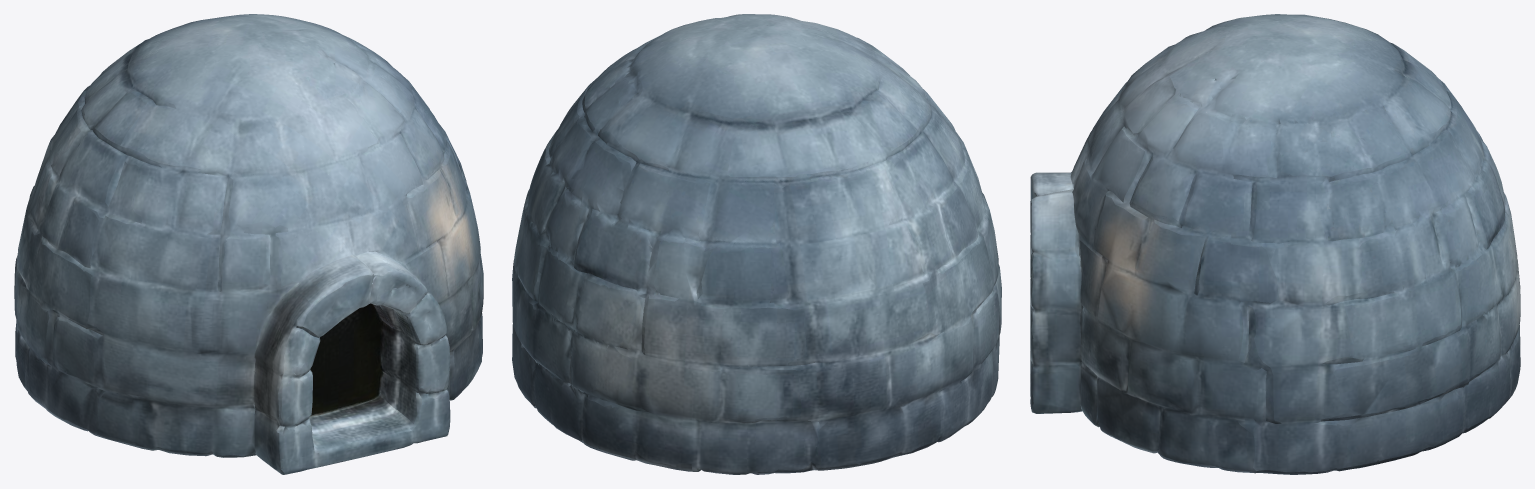
Rendered from iceland_igloo.glb.
3 renders of one model, left to right at view 1: azimuth 30°, elevation 25°; view 2: azimuth 150°, elevation 25°; view 3: azimuth 270°, elevation 25°, orthographic. The views are drawn at different scales.
Parts seen in each view (by area): view 1: world; view 2: world; view 3: world.
Part boxes in pixels (x1=…): world: x1=14, y1=14, x2=483, y2=474; world: x1=512, y1=14, x2=1001, y2=474; world: x1=1030, y1=14, x2=1520, y2=474.
Size of the model in its own units: 0.2995 by 0.2304 by 0.3003.
1 material, 1 textured.
